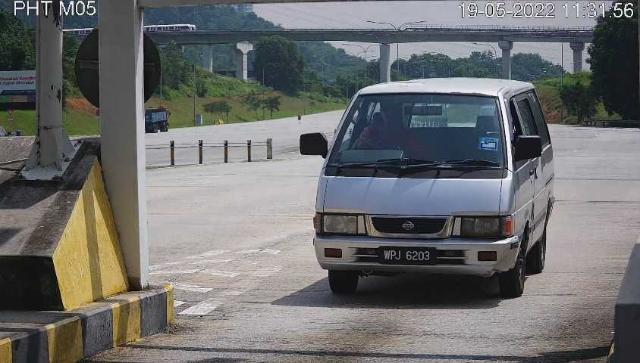License_Plate: (378, 246, 441, 269)
van: (314, 78, 554, 298)
